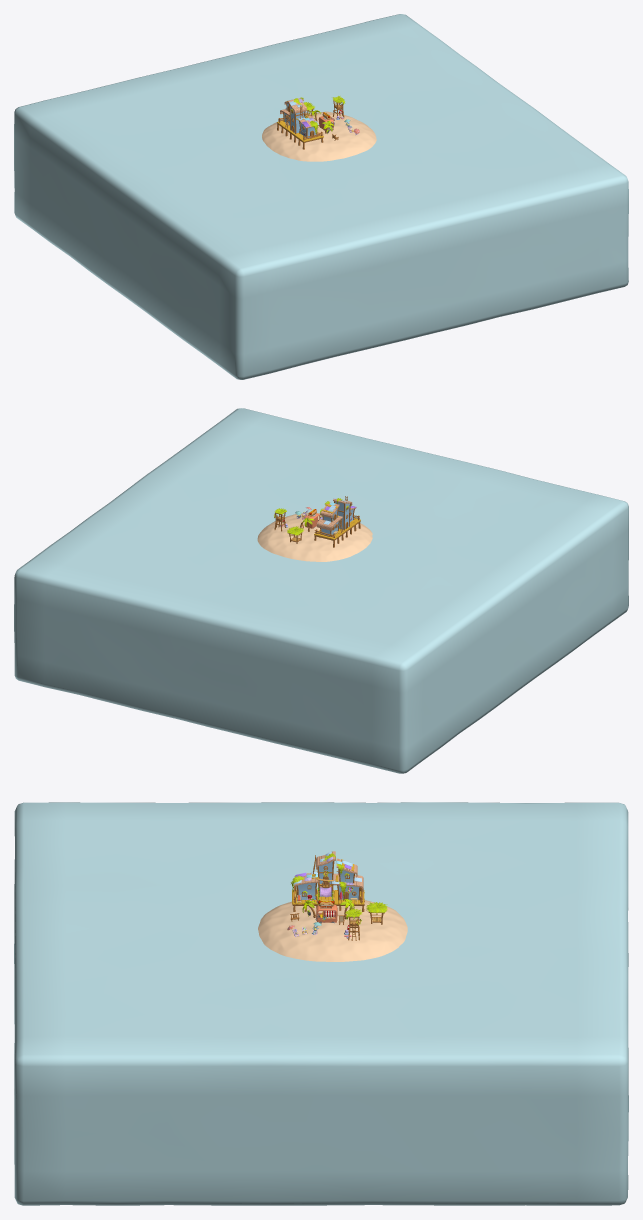
Rendered from beach.fbx.
The picture shows the model from 3 angles, top to bottom: view 1: azimuth 30°, elevation 25°; view 2: azimuth 150°, elevation 25°; view 3: azimuth 270°, elevation 25°; orthographic projection. The views are drawn at different scales.
Visible parts, largest first — view 1: Plane.250_Plane.2737_Material.047, Plane.005_Plane.007_Material.002, Cube.007_Cube.025_Material.039; view 2: Plane.250_Plane.2737_Material.047, Plane.005_Plane.007_Material.002, Cube.007_Cube.025_Material.039; view 3: Plane.250_Plane.2737_Material.047, Plane.005_Plane.007_Material.002, Cube.007_Cube.025_Material.039.
Boxes of the visible parts, x1=… form: Plane.250_Plane.2737_Material.047: x1=14, y1=14, x2=628, y2=379; Plane.005_Plane.007_Material.002: x1=262, y1=111, x2=376, y2=161; Cube.007_Cube.025_Material.039: x1=277, y1=97, x2=323, y2=149; Plane.250_Plane.2737_Material.047: x1=14, y1=408, x2=628, y2=773; Plane.005_Plane.007_Material.002: x1=257, y1=512, x2=372, y2=561; Cube.007_Cube.025_Material.039: x1=314, y1=496, x2=360, y2=547; Plane.250_Plane.2737_Material.047: x1=14, y1=802, x2=628, y2=1205; Plane.005_Plane.007_Material.002: x1=258, y1=897, x2=407, y2=961; Cube.007_Cube.025_Material.039: x1=291, y1=851, x2=364, y2=911.
Bounding box in the file's own units: 10705 × 4070 × 10704.
